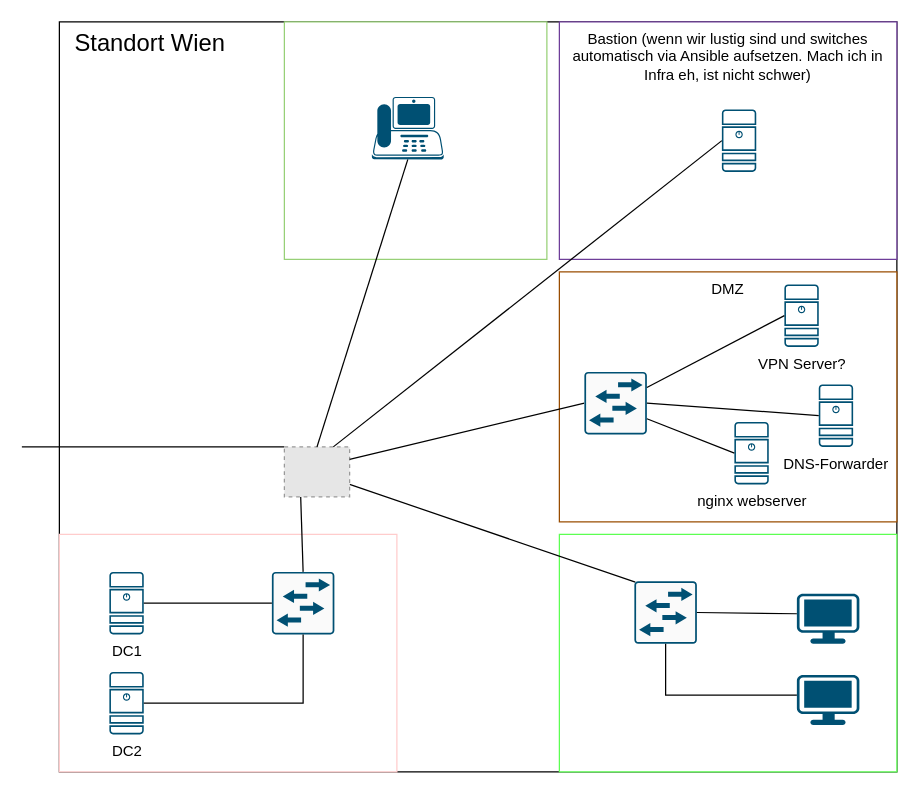
The diagram is 919 pixels wide and 794 high, and some of its shapes have lost their labels. Grey dashed boxes stand in for pictures. The box of each missing label's shape, as (x1, y1, x2, y2) in pixels:
(mehrere) LANs: (558, 533, 897, 772)
Bastion: (721, 109, 756, 171)
IP Telefonie: (283, 21, 547, 259)
SEC: (58, 533, 397, 772)
